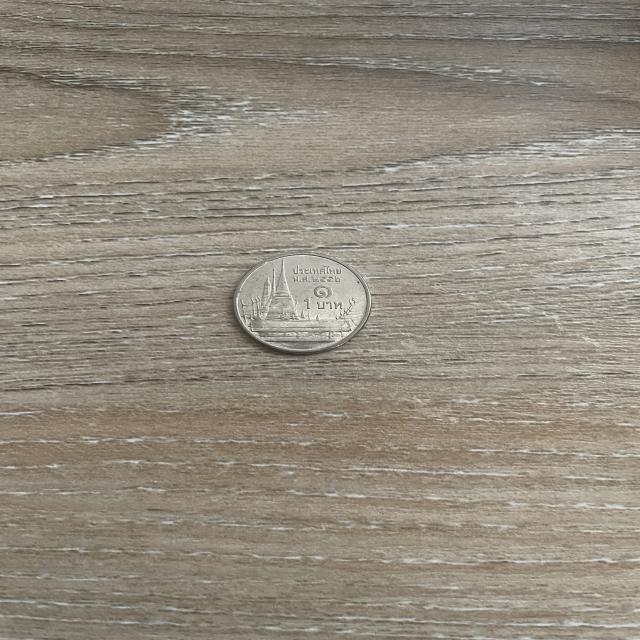1 Bath: (226, 249, 381, 366)
